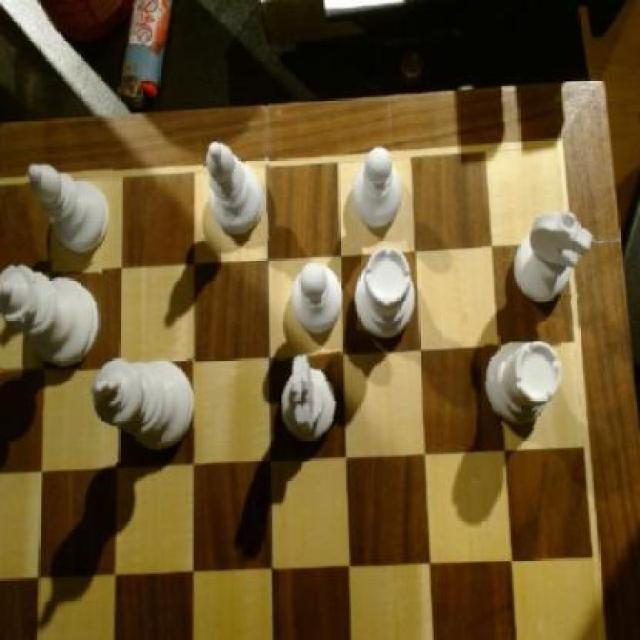black-rook: (26, 158, 113, 258), (203, 132, 272, 242)
white-bishop: (94, 357, 197, 462)
white-king: (511, 211, 596, 300), (278, 352, 346, 448)
white-knight: (348, 144, 407, 238), (291, 258, 342, 337)
white-pawn: (0, 258, 101, 377)
white-queen: (354, 242, 421, 348), (482, 335, 559, 427)
